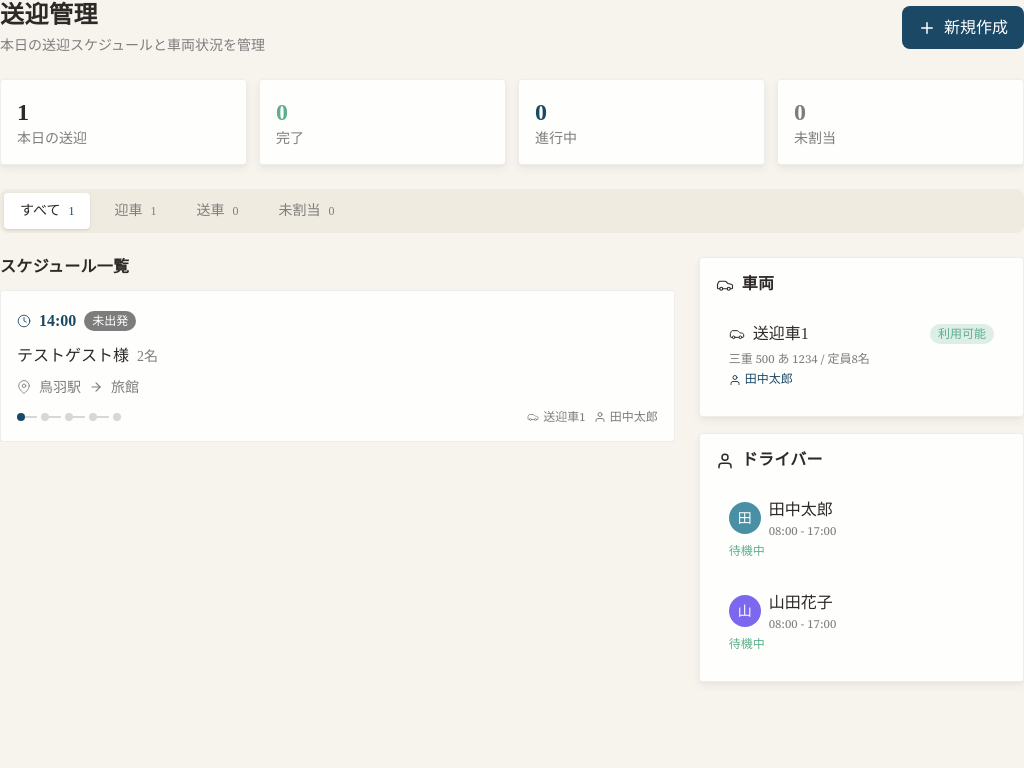
Scenario: TaskDetailModalの共通Modal移行 › TaskDetailModalが共通Modalのrole=dialogを持つ
Click the text "テストゲスト様" at (88, 356), box top-left (17, 347), bottom-right (158, 364)
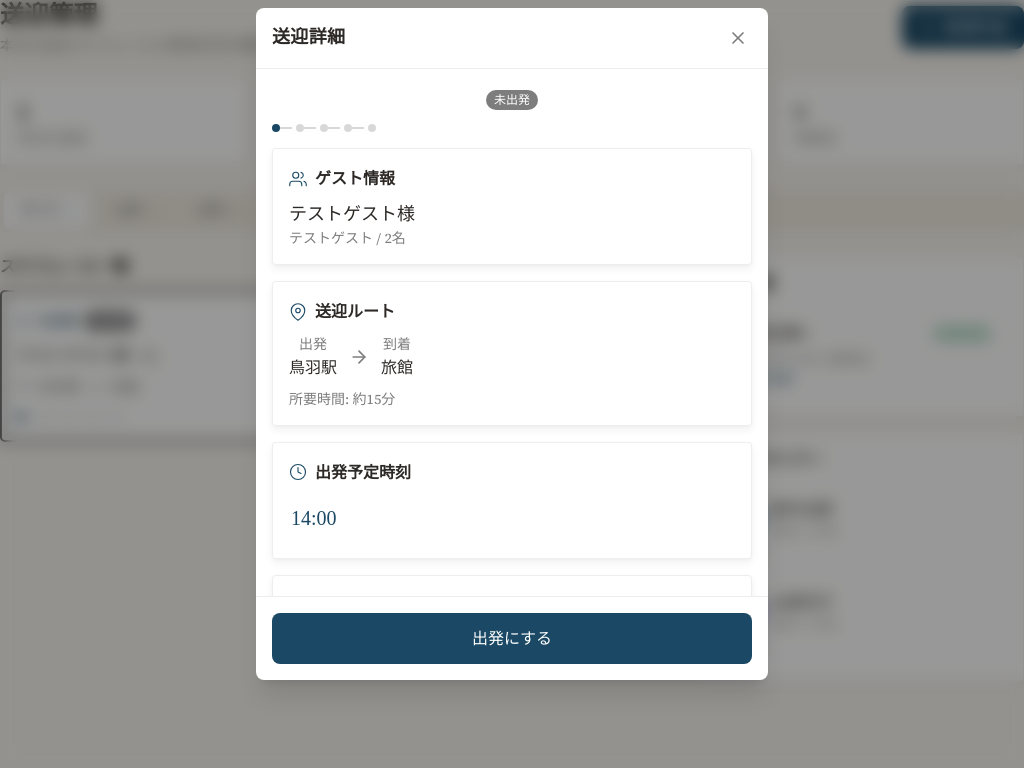
Expected: the dialog is shown, top-left (256, 8), bottom-right (768, 680)
